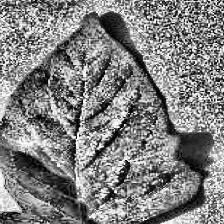spider mites: (0, 13, 199, 224)
